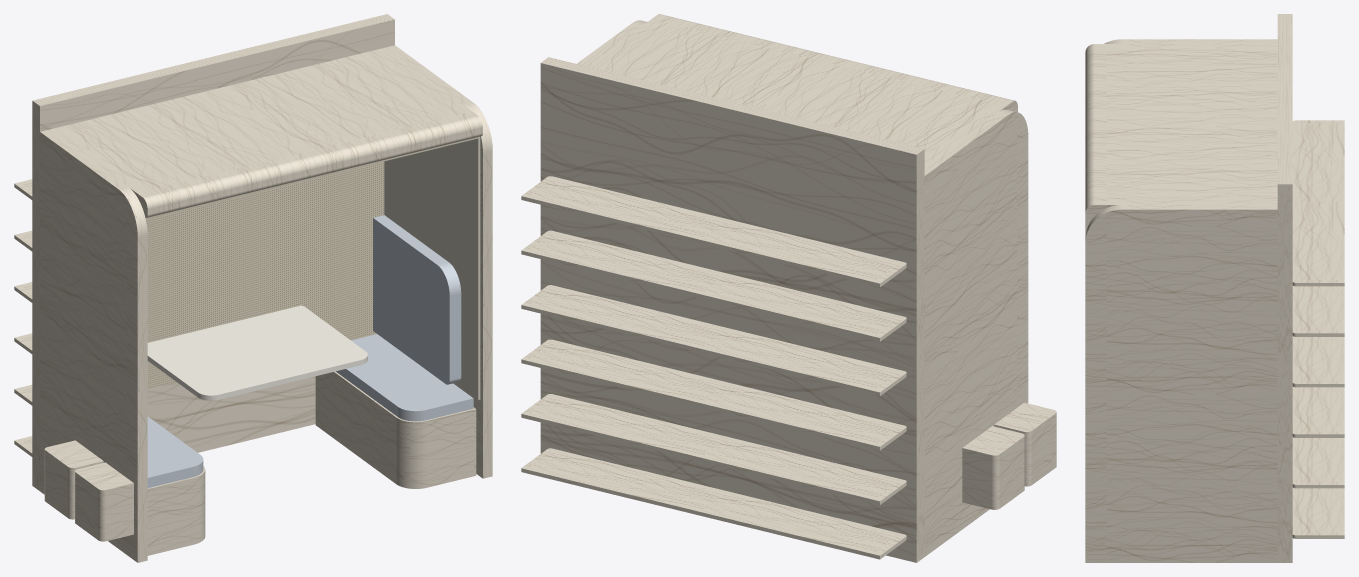
File: Siddeniche_26044_4pers_2170.glb
3 views of the same model, side by side, from view 1: azimuth 30°, elevation 25°; view 2: azimuth 150°, elevation 25°; view 3: azimuth 270°, elevation 25° (orthographic). The views are drawn at different scales.
Visible parts, largest first — view 1: Tag, Gavl venstre, Beklædning bag, Bagvæg, Bordplade, Beklædning højre, Bænk højre, Rygpude højre, Siddehynde højre, Gavl højre, Bænk venstre, Kasse 2 (+3 smaller); view 2: Bagvæg, Gavl venstre, Tag, Skohylde 1, Skohylde 3, Skohylde 4, Skohylde 5, Skohylde 6, Skohylde 2, Kasse 1, Kasse 2, Gavl højre; view 3: Gavl højre, Tag, Skohylde 6, Bagvæg, Skohylde 1, Skohylde 2, Skohylde 3, Skohylde 4, Skohylde 5, Gavl venstre.
Boxes of the visible parts, box(x1,y1,x2,y2) form: Tag: box(50, 47, 482, 217); Gavl venstre: box(40, 129, 147, 562); Beklædning bag: box(146, 161, 384, 388); Bagvæg: box(32, 14, 394, 490); Bordplade: box(147, 305, 367, 400); Beklædning højre: box(384, 136, 480, 399); Bænk højre: box(315, 371, 476, 488); Rygpude højre: box(373, 215, 461, 384); Siddehynde højre: box(336, 334, 473, 421); Gavl højre: box(385, 45, 492, 478); Bænk venstre: box(147, 466, 205, 555); Kasse 2: box(75, 462, 133, 541); Bagvæg: box(540, 57, 924, 562); Gavl venstre: box(924, 109, 1028, 556); Tag: box(587, 14, 1017, 165); Skohylde 1: box(521, 448, 906, 559); Skohylde 3: box(521, 339, 906, 450); Skohylde 4: box(521, 285, 906, 396); Skohylde 5: box(521, 230, 906, 341); Skohylde 6: box(521, 176, 906, 287); Skohylde 2: box(521, 394, 906, 504); Kasse 1: box(962, 426, 1024, 509); Kasse 2: box(994, 402, 1056, 486); Gavl højre: box(577, 20, 646, 66); Gavl højre: box(1085, 205, 1277, 562); Tag: box(1085, 44, 1277, 222); Skohylde 6: box(1292, 120, 1344, 286); Bagvæg: box(1277, 14, 1292, 562); Skohylde 1: box(1292, 487, 1344, 538); Skohylde 2: box(1292, 437, 1344, 488); Skohylde 3: box(1292, 386, 1344, 437); Skohylde 4: box(1292, 336, 1344, 387); Skohylde 5: box(1292, 285, 1344, 336); Gavl venstre: box(1085, 39, 1277, 236).
Size of the model in its own units: 2.37 by 2.25 by 1.4.
7 materials, 4 textured.
